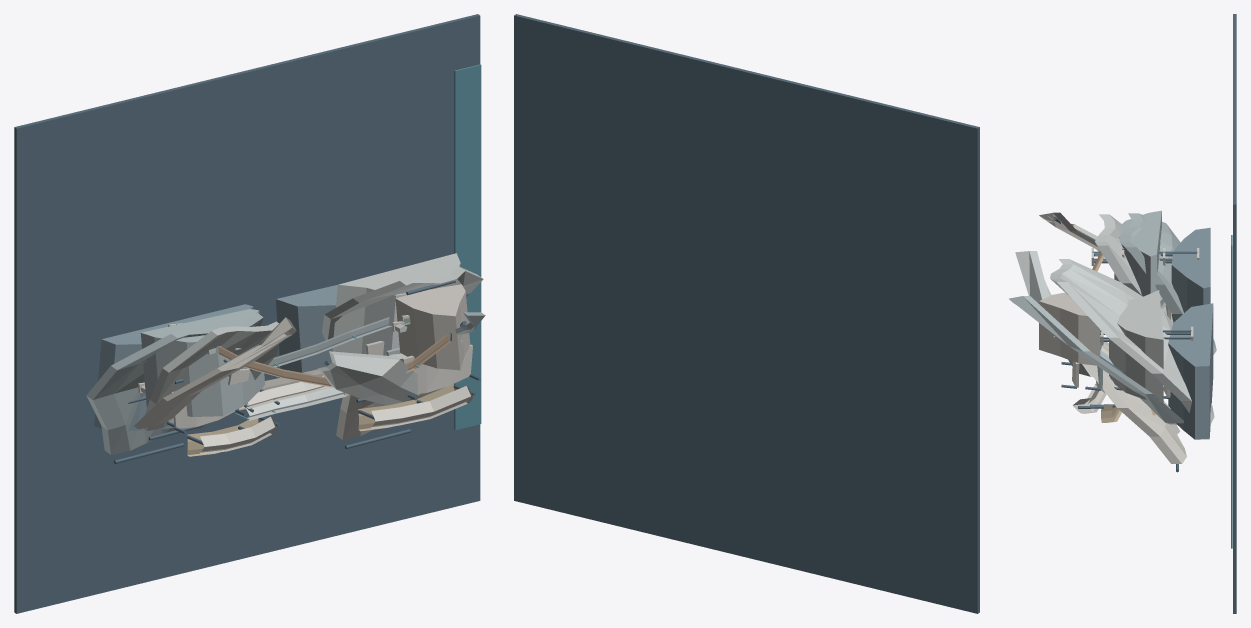
Rendered from J7R4_REAL_BLENDER_EDIT.glb.
3 views of the same model, side by side, from view 1: azimuth 30°, elevation 25°; view 2: azimuth 150°, elevation 25°; view 3: azimuth 270°, elevation 25° (orthographic). The views are drawn at different scales.
Parts seen in each view (by area): view 1: W0_NONCANONICAL_10KM_REFERENCE, W0_EAST_WATER_ABSTRACT, WEST_CIVIC_CLIFF_UPPER, WEST_COAST_FOLDED_INHABITED_GROUND, EAST_SERRATED_CREST_CITY, EAST_CIVIC_ESCARPMENT_MIDDLE, SKY_HORIZON_BROKEN_CROWN, EAST_RESIDENTIAL_CLIFF_LOWER, WEST_UPPER_SKY_CAMPUS, WEST_FREE_EDGE_WINDWARD, EAST_HIGH_TECTONIC_CITY, WEST_RESIDENTIAL_CLIFF_LOWER (+10 smaller); view 2: W0_NONCANONICAL_10KM_REFERENCE; view 3: EAST_HIGH_TECTONIC_CITY, EAST_RESIDENTIAL_CLIFF_LOWER, EAST_CIVIC_ESCARPMENT_MIDDLE, WEST_RESIDENTIAL_CLIFF_LOWER, EAST_SERRATED_CREST_CITY, EAST_LONGHORIZON_PUBLIC_CITY, EAST_SPIRE_FOLD, W0_NONCANONICAL_10KM_REFERENCE, WEST_COAST_FOLDED_INHABITED_GROUND, WEST_CIVIC_CLIFF_UPPER, WEST_UPPER_SKY_CAMPUS, SKY_HORIZON_BROKEN_CROWN (+3 smaller).
Part boxes in pixels (box(x1,y1,x2,y2)): W0_NONCANONICAL_10KM_REFERENCE: box(14, 14, 480, 613); W0_EAST_WATER_ABSTRACT: box(454, 64, 481, 430); WEST_CIVIC_CLIFF_UPPER: box(140, 309, 265, 416); WEST_COAST_FOLDED_INHABITED_GROUND: box(86, 313, 263, 454); EAST_SERRATED_CREST_CITY: box(395, 284, 470, 370); EAST_CIVIC_ESCARPMENT_MIDDLE: box(331, 253, 460, 361); SKY_HORIZON_BROKEN_CROWN: box(318, 351, 419, 405); EAST_RESIDENTIAL_CLIFF_LOWER: box(275, 285, 337, 372); WEST_UPPER_SKY_CAMPUS: box(144, 321, 278, 430); WEST_FREE_EDGE_WINDWARD: box(134, 317, 296, 429); EAST_HIGH_TECTONIC_CITY: box(322, 266, 483, 340); WEST_RESIDENTIAL_CLIFF_LOWER: box(94, 304, 253, 430); W0_NONCANONICAL_10KM_REFERENCE: box(514, 14, 979, 613); EAST_HIGH_TECTONIC_CITY: box(1050, 259, 1214, 424); EAST_RESIDENTIAL_CLIFF_LOWER: box(1168, 303, 1213, 439); EAST_CIVIC_ESCARPMENT_MIDDLE: box(1109, 290, 1163, 402); WEST_RESIDENTIAL_CLIFF_LOWER: box(1171, 227, 1210, 322); EAST_SERRATED_CREST_CITY: box(1039, 292, 1100, 365); EAST_LONGHORIZON_PUBLIC_CITY: box(1083, 342, 1186, 463); EAST_SPIRE_FOLD: box(1009, 296, 1183, 424); W0_NONCANONICAL_10KM_REFERENCE: box(1233, 14, 1236, 613); WEST_COAST_FOLDED_INHABITED_GROUND: box(1119, 213, 1216, 354); WEST_CIVIC_CLIFF_UPPER: box(1114, 210, 1161, 296); WEST_UPPER_SKY_CAMPUS: box(1095, 214, 1173, 322); SKY_HORIZON_BROKEN_CROWN: box(1015, 251, 1092, 376).
Bounding box in the file's own units: 10000 × 10000 × 5055.
